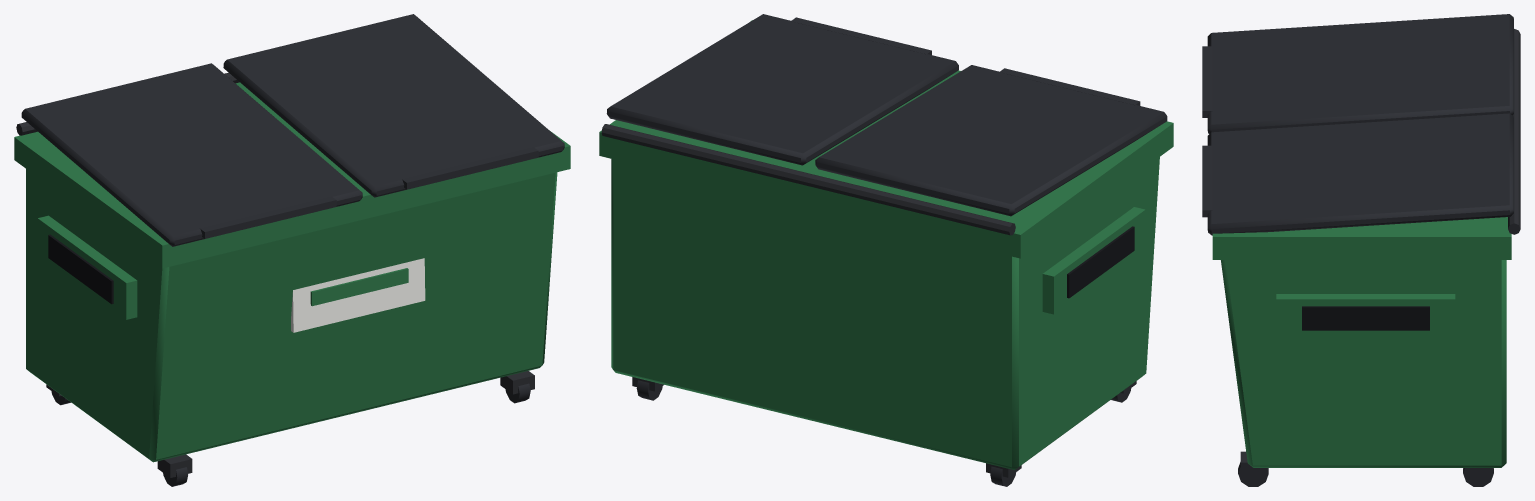
Rendered from dumpster.glb.
The picture shows the model from 3 angles, left to right: view 1: azimuth 30°, elevation 25°; view 2: azimuth 150°, elevation 25°; view 3: azimuth 270°, elevation 25°; orthographic projection. The views are drawn at different scales.
Parts seen in each view (by area): view 1: body; view 2: body; view 3: body.
Part boxes in pixels (<box>): body: <box>14,14,570,486</box>; body: <box>599,14,1173,486</box>; body: <box>1202,14,1520,486</box>.
Bounding box in the file's own units: 192 × 125 × 124.
